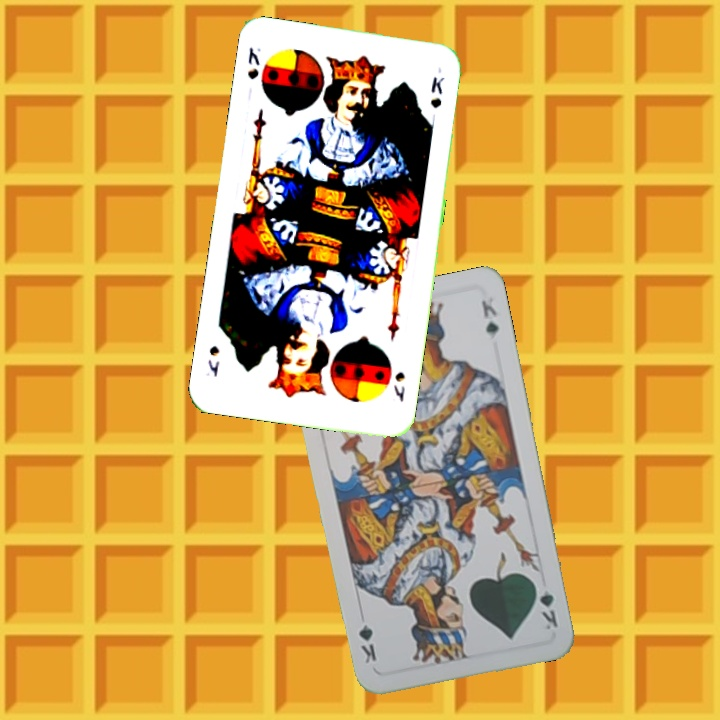GK: (530, 577, 560, 633)
SK: (243, 43, 263, 82), (389, 367, 408, 404)
